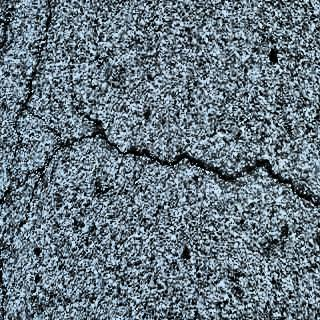crack: (100, 124, 320, 208), (11, 128, 102, 250), (21, 0, 55, 131), (71, 104, 103, 127)
